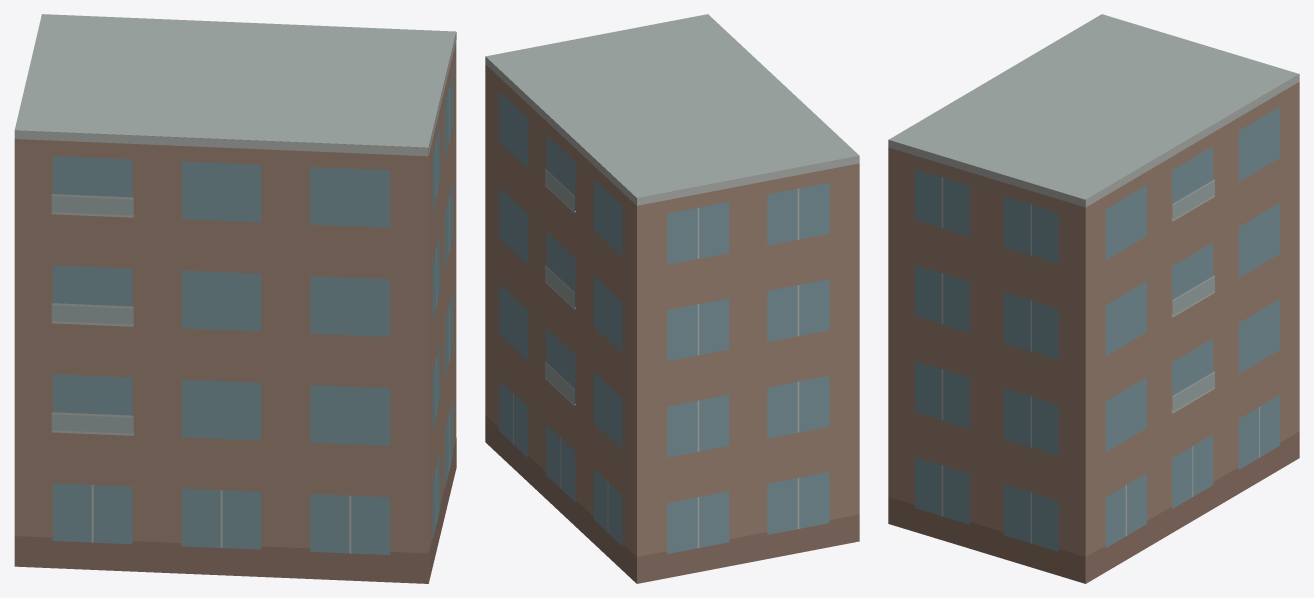
Rendered from residential-206629fb-8cbc-41bf-876a-de37c6110272.glb.
3 views of the same model, side by side, from view 1: azimuth 30°, elevation 25°; view 2: azimuth 150°, elevation 25°; view 3: azimuth 270°, elevation 25° (orthographic). The views are drawn at different scales.
Visible parts, largest first — view 1: residential-206629fb-8cbc-41bf-876a-de37c6110272.tmp; view 2: residential-206629fb-8cbc-41bf-876a-de37c6110272.tmp; view 3: residential-206629fb-8cbc-41bf-876a-de37c6110272.tmp.
Part boxes in pixels (x1=…): residential-206629fb-8cbc-41bf-876a-de37c6110272.tmp: x1=14, y1=14, x2=456, y2=583; residential-206629fb-8cbc-41bf-876a-de37c6110272.tmp: x1=485, y1=14, x2=859, y2=583; residential-206629fb-8cbc-41bf-876a-de37c6110272.tmp: x1=888, y1=14, x2=1299, y2=583.
Size of the model in its own units: 12.67 by 12.2 by 11.84.
